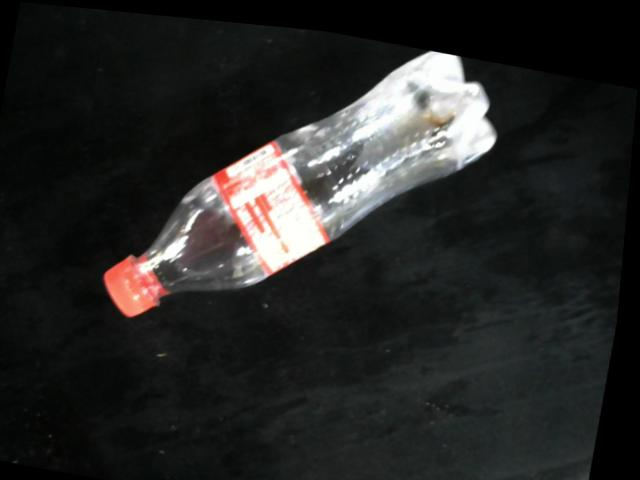bottle: (106, 41, 502, 316)
